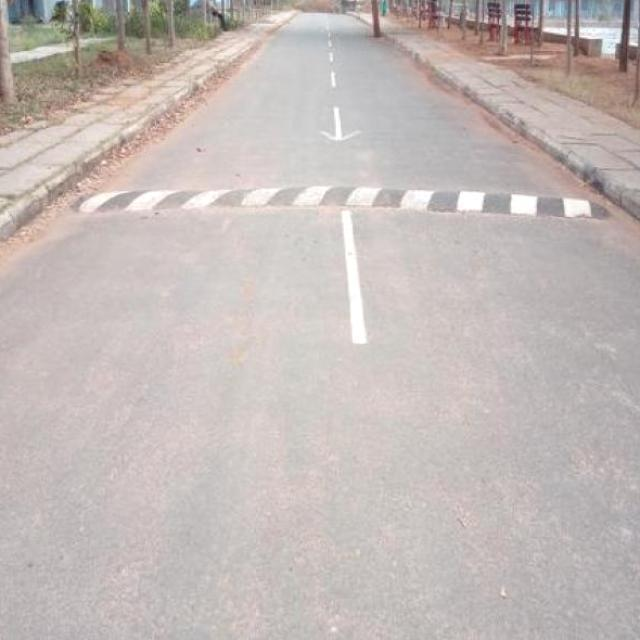Marked Bump: (85, 180, 577, 228)
